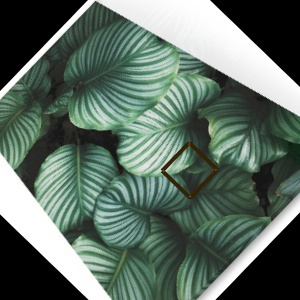square: (160, 140, 221, 201)
